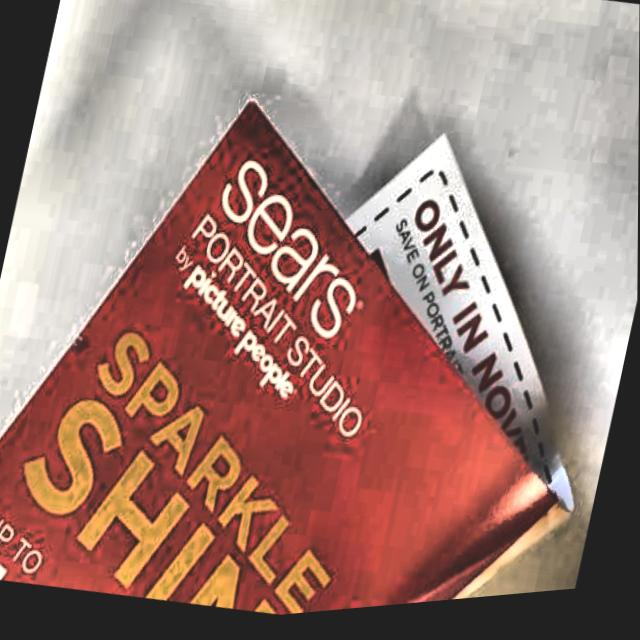Paper: (0, 25, 640, 640)
